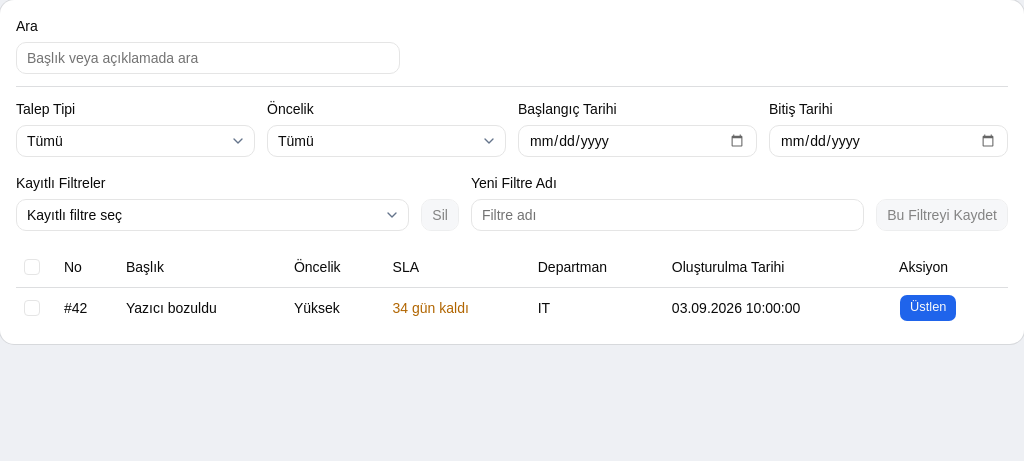
Test case: Queue page › clicking Filtreleri Temizle resets filters and re-fetches the unfiltered queue
Check: the table is shown, box [16, 247, 1008, 328]
Step 1. Select "Düşük" in the dropdown labelled "Öncelik" → (386, 141), box [267, 125, 506, 157]
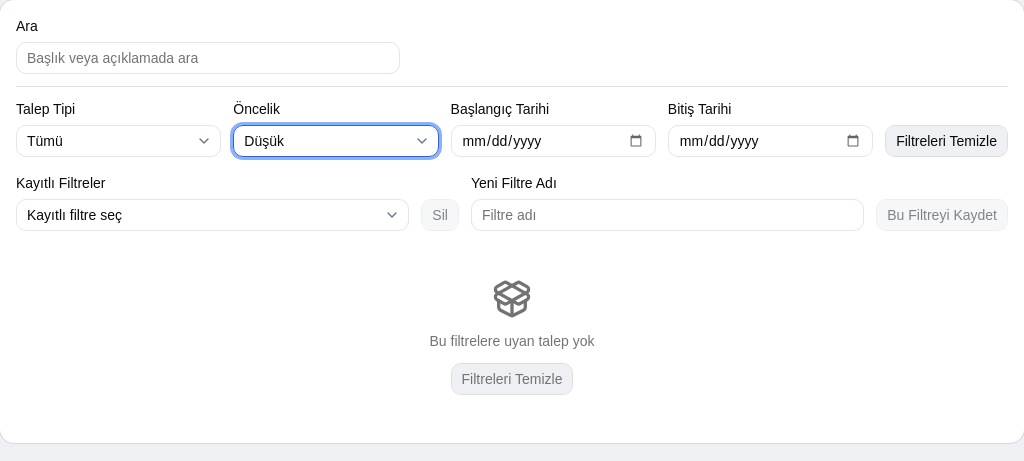
Check: the text "Bu filtrelere uyan talep yok" is shown, box [430, 331, 594, 351]
Step 2. Click the button "Filtreleri Temizle" below "Bitiş Tarihi" → (947, 141), box [885, 125, 1008, 157]
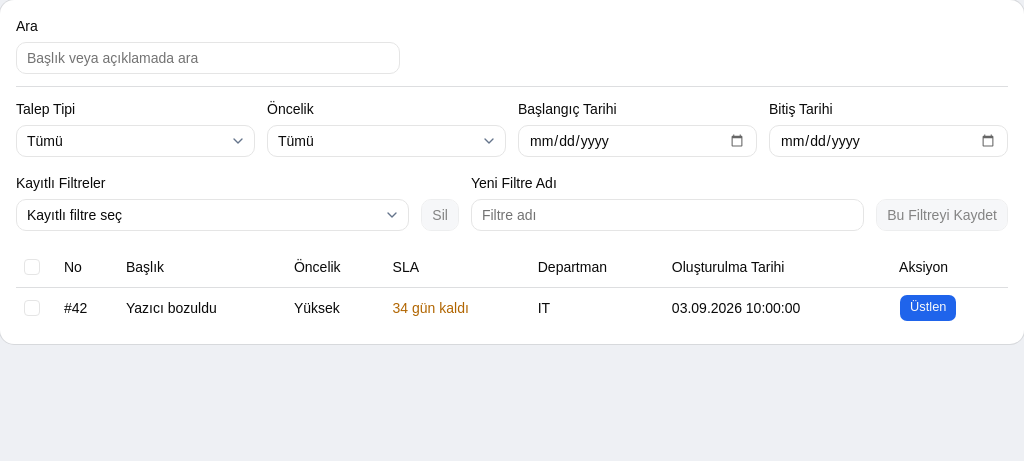
Check: the table is shown, box [16, 247, 1008, 328]
